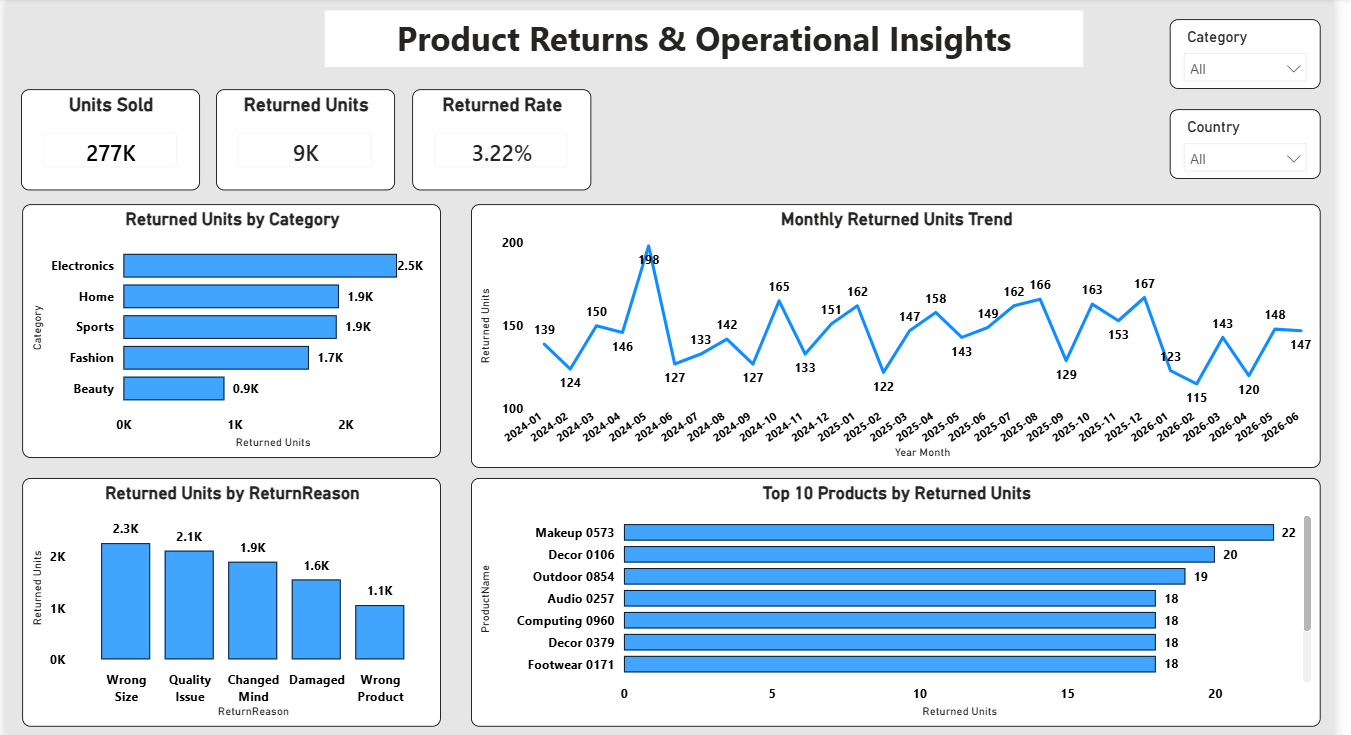

What the dashboard file says about the page in this screenshot:
{"tool":"powerbi","page":{"name":"Product Return","canvas":[1280,720],"ordinal":2},"visuals":[{"type":"cardVisual","title":"Returned Units","fields":{"Data":["FactReturns.Total Returned Units"]},"box":[202.7,88.1,172.5,97.7],"z":0},{"type":"cardVisual","title":"Units Sold","fields":{"Data":["FactOrderItems.Total Units Sold"]},"box":[14.5,88.1,172.5,97.7],"z":1000},{"type":"cardVisual","title":"Returned Rate","fields":{"Data":["FactReturns.Return Rate"]},"box":[392.1,88.1,172.5,97.7],"z":2000},{"type":"barChart","title":"Returned Units by Category","fields":{"Category":["DimProducts.Category"],"Y":["FactReturns.Returned Units (Country Aware)"]},"box":[15.7,199.1,404.2,244.9],"z":3000},{"type":"columnChart","title":"Returned Units by ReturnReason","fields":{"Category":["FactReturns.ReturnReason"],"Y":["FactReturns.Returned Units (Country Aware)"]},"box":[15.7,463.3,404.2,240.1],"z":4000},{"type":"lineChart","title":"Monthly Returned Units Trend","fields":{"Category":["DimDate.Year Month"],"Y":["FactReturns.Returned Units (Country Aware)"]},"box":[448.8,199.1,820.4,254.6],"z":5000},{"type":"actionButton","box":[0,0,100,40],"z":6000},{"type":"clusteredBarChart","title":"Top 10 Products by Returned Units","fields":{"Category":["DimProducts.ProductName"],"Y":["FactReturns.Returned Units (Country Aware)"]},"box":[448.8,463.3,820.4,240.1],"z":7000},{"type":"slicer","fields":{"Values":["DimProducts.Category"]},"box":[1123.2,20.5,146,67.6],"z":8000},{"type":"slicer","fields":{"Values":["DimCustomer.Country"]},"box":[1123.2,107.4,146,67.6],"z":9000},{"type":"textbox","box":[307.6,12.1,732.3,54.3],"z":9001}]}

Visuals, with their boxes on the page's 1280x720 design canvas (x1, y1, x2, y2). These are canvas units, not pixel positions in the 1351x735 screenshot, which may show the page scaled, cropped or inside an application window:
"Returned Units" cardVisual: 203, 88, 375, 186
"Units Sold" cardVisual: 14, 88, 187, 186
"Returned Rate" cardVisual: 392, 88, 565, 186
"Returned Units by Category" barChart: 16, 199, 420, 444
"Returned Units by ReturnReason" columnChart: 16, 463, 420, 703
"Monthly Returned Units Trend" lineChart: 449, 199, 1269, 454
actionButton: 0, 0, 100, 40
"Top 10 Products by Returned Units" clusteredBarChart: 449, 463, 1269, 703
slicer - DimProducts.Category: 1123, 20, 1269, 88
slicer - DimCustomer.Country: 1123, 107, 1269, 175
textbox: 308, 12, 1040, 66
